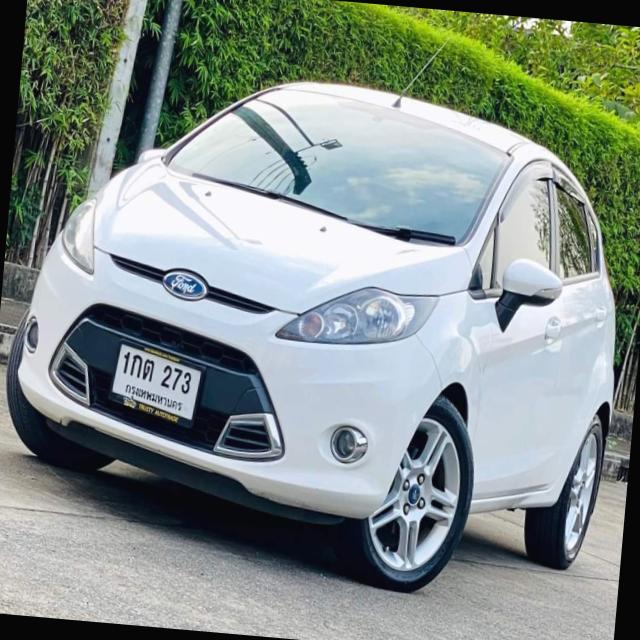license_plate: (102, 336, 212, 436)
